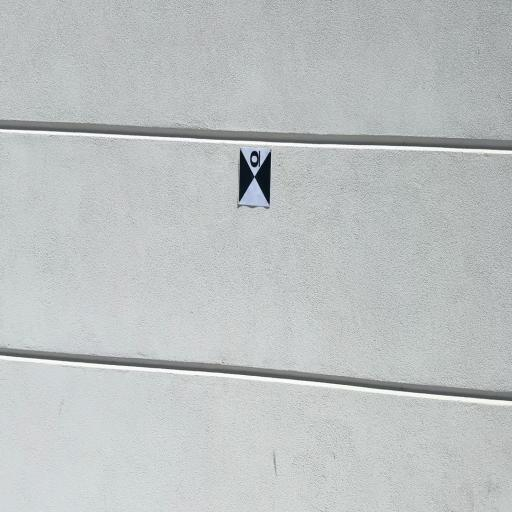target0: (238, 147, 271, 207)
